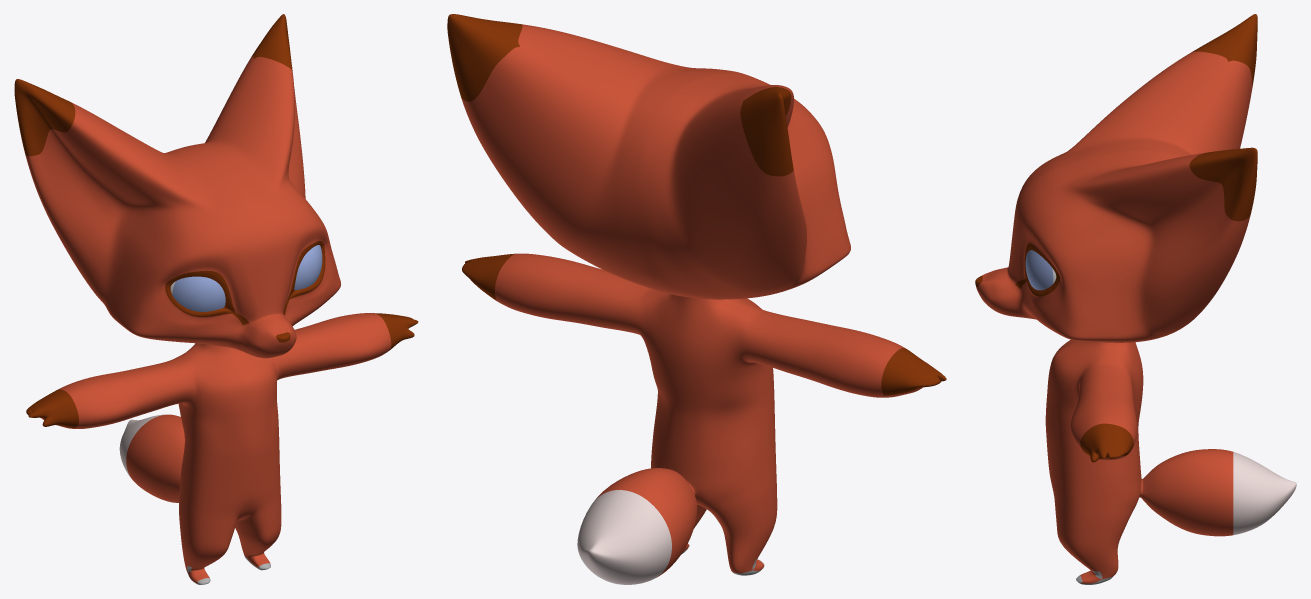
File: fox_smooth_test_3.fbx
3 renders of one model, left to right at view 1: azimuth 30°, elevation 25°; view 2: azimuth 150°, elevation 25°; view 3: azimuth 270°, elevation 25°, orthographic. The views are drawn at different scales.
Parts seen in each view (by area): view 1: TETE, polySurface5, polySurface6; view 2: TETE; view 3: TETE, polySurface6.
Boxes of the visible parts, x1,y1,x2,y2 form: TETE: (14, 14, 418, 584); polySurface5: (170, 276, 225, 311); polySurface6: (294, 245, 322, 290); TETE: (447, 14, 946, 584); TETE: (975, 14, 1296, 584); polySurface6: (1025, 250, 1056, 290).
Bounding box in the file's own units: 125 × 144 × 86.16.
